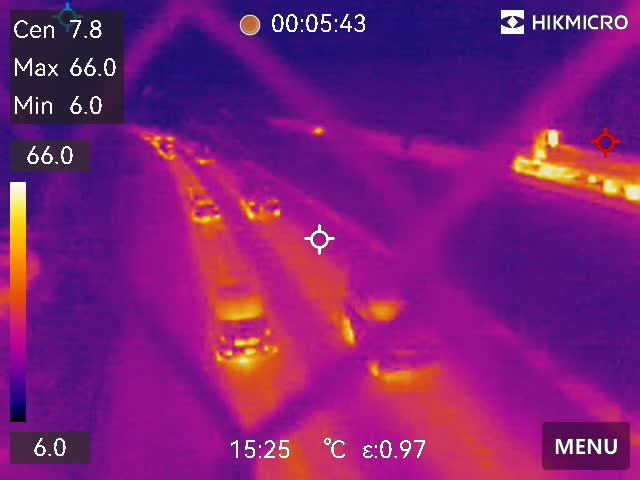heavyTruck: (514, 127, 640, 207)
